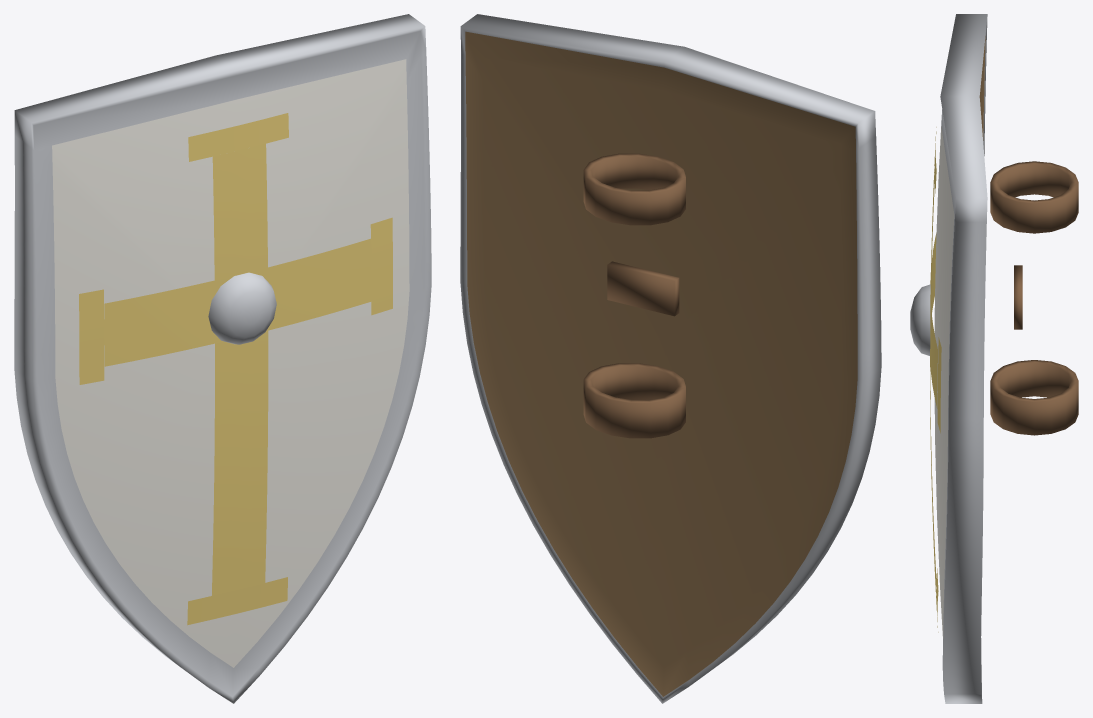
File: PaladinHealer_Shield.fbx
The picture shows the model from 3 angles, left to right: view 1: azimuth 30°, elevation 25°; view 2: azimuth 150°, elevation 25°; view 3: azimuth 270°, elevation 25°; orthographic projection. The views are drawn at different scales.
Parts seen in each view (by area): view 1: PaladinHealer_Shield; view 2: PaladinHealer_Shield; view 3: PaladinHealer_Shield.
Boxes of the visible parts, x1=… form: PaladinHealer_Shield: x1=14, y1=14, x2=431, y2=703; PaladinHealer_Shield: x1=460, y1=14, x2=881, y2=703; PaladinHealer_Shield: x1=910, y1=14, x2=1078, y2=703.
Size of the model in its own units: 0.5083 by 0.7735 by 0.1945.
